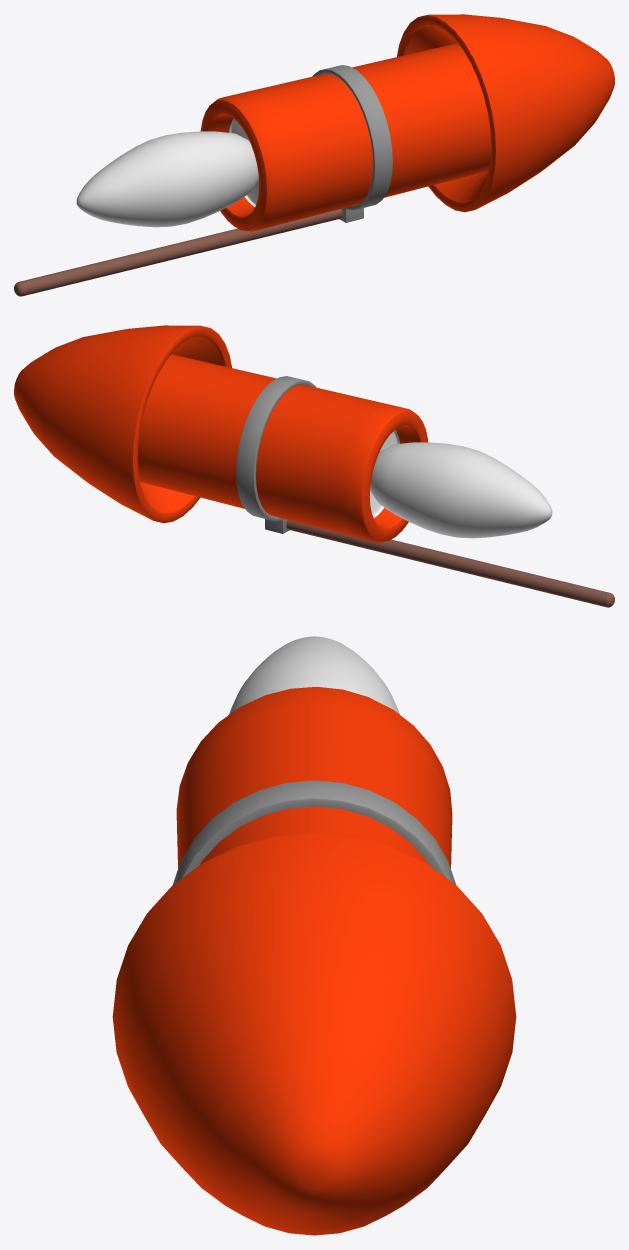
The model's file is firework wariant.fbx.
The picture shows the model from 3 angles, top to bottom: view 1: azimuth 30°, elevation 25°; view 2: azimuth 150°, elevation 25°; view 3: azimuth 270°, elevation 25°; orthographic projection. The views are drawn at different scales.
Visible parts, largest first — view 1: Cylinder.001, Cylinder.002; view 2: Cylinder.001, Cylinder.002; view 3: Cylinder.001, Cylinder.002.
Boxes of the visible parts, x1,y1,x2,y2 form: Cylinder.001: [14, 14, 614, 296]; Cylinder.002: [76, 131, 258, 227]; Cylinder.001: [14, 325, 614, 607]; Cylinder.002: [370, 442, 552, 538]; Cylinder.001: [112, 687, 516, 1235]; Cylinder.002: [229, 636, 399, 714].
Bounding box in the file's own units: 149 × 43.77 × 43.77.
